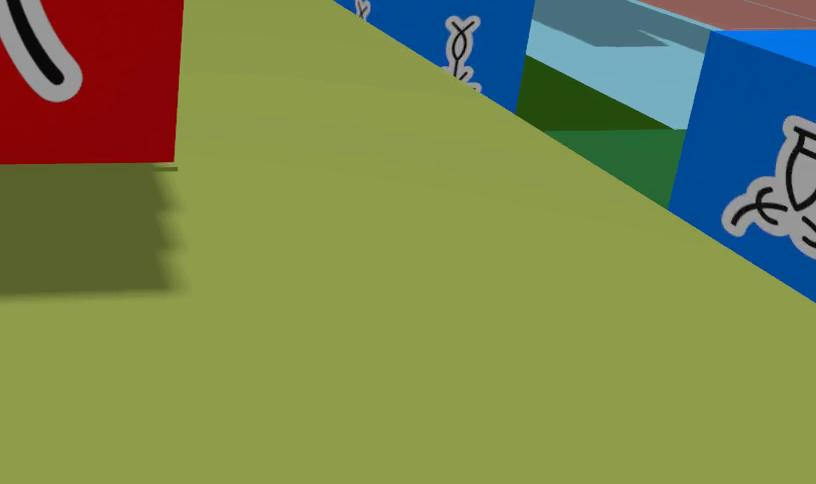KFS_FAKE: (0, 0, 184, 164), (0, 0, 82, 102)
KFS_REAL: (668, 29, 815, 299), (336, 0, 534, 108), (721, 115, 815, 259), (446, 16, 480, 90)
